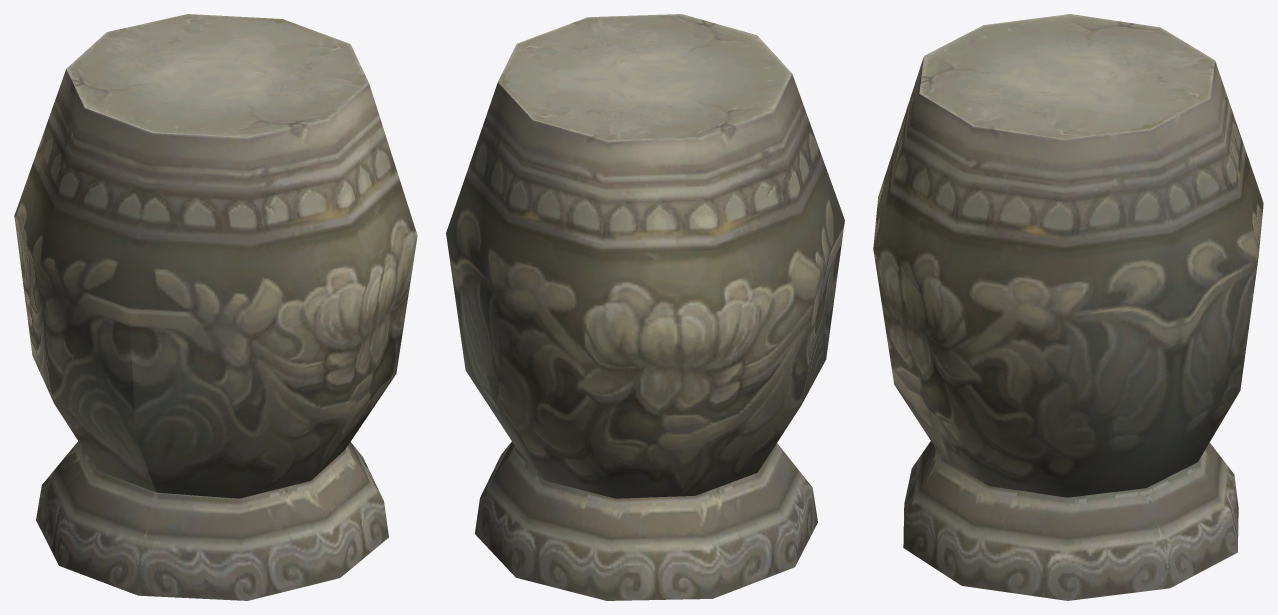
File: Hangzhou_wj_012_1.FBX
3 views of the same model, side by side, from view 1: azimuth 30°, elevation 25°; view 2: azimuth 150°, elevation 25°; view 3: azimuth 270°, elevation 25° (orthographic).
Visible parts, largest first — view 1: DrawCall_0772; view 2: DrawCall_0772; view 3: DrawCall_0772.
Boxes of the visible parts, <box> form: DrawCall_0772: <box>14,14,417,600</box>; DrawCall_0772: <box>446,14,844,600</box>; DrawCall_0772: <box>873,14,1263,600</box>.
Size of the model in its own units: 35.18 by 43.67 by 33.89.
1 material, 1 textured.
